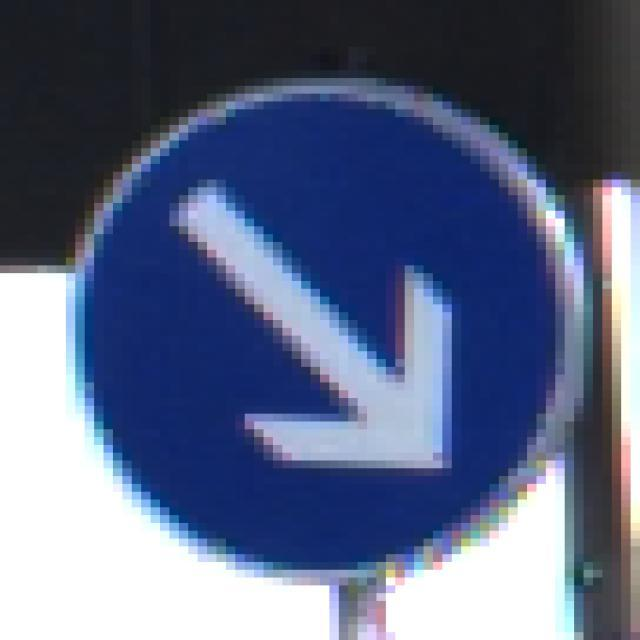compulsary keep right: (63, 77, 591, 583)
